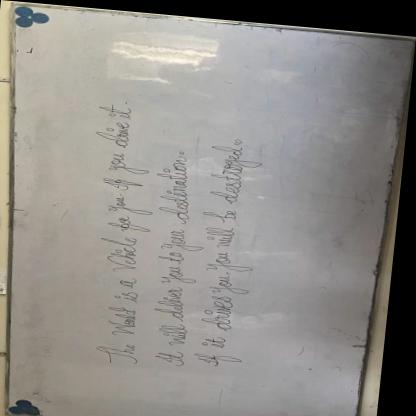Handwritten text: (177, 131, 270, 370), (85, 99, 152, 367), (148, 135, 200, 367)
Whiteboard: (0, 1, 416, 416)
